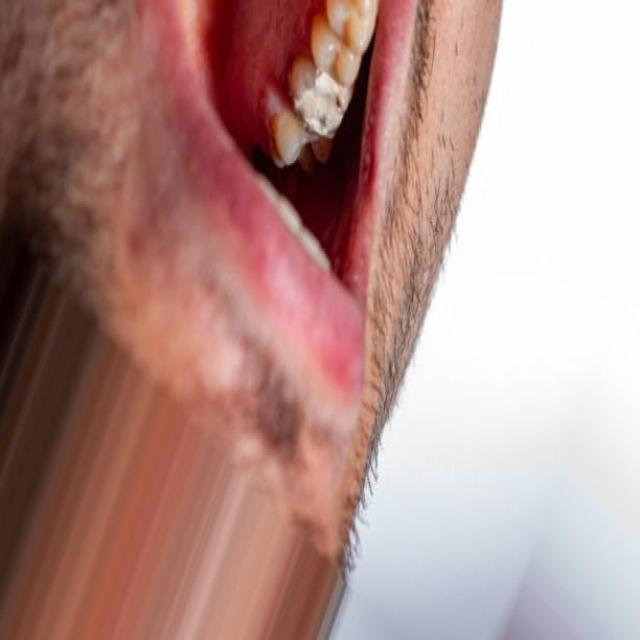caries: (296, 59, 348, 138)
